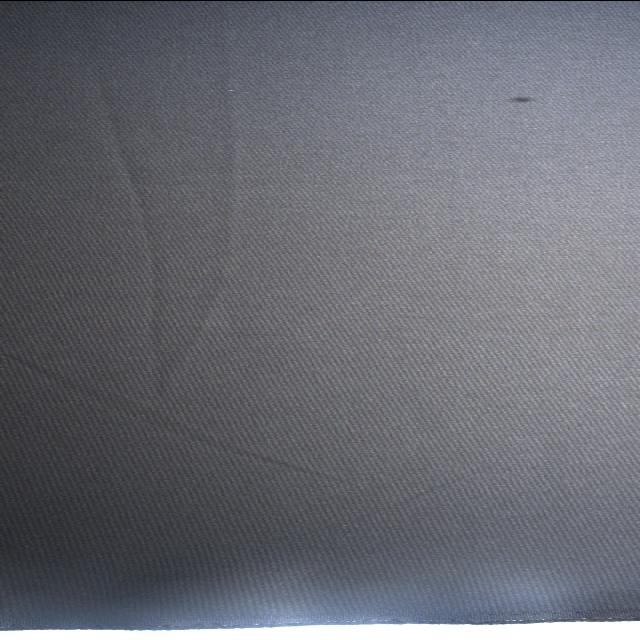crease: (76, 3, 232, 394), (0, 351, 353, 485)
